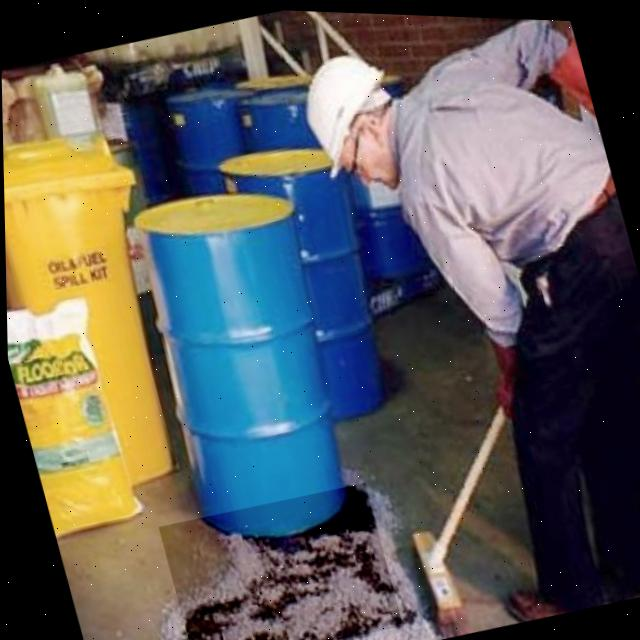spillage: (185, 484, 374, 640)
